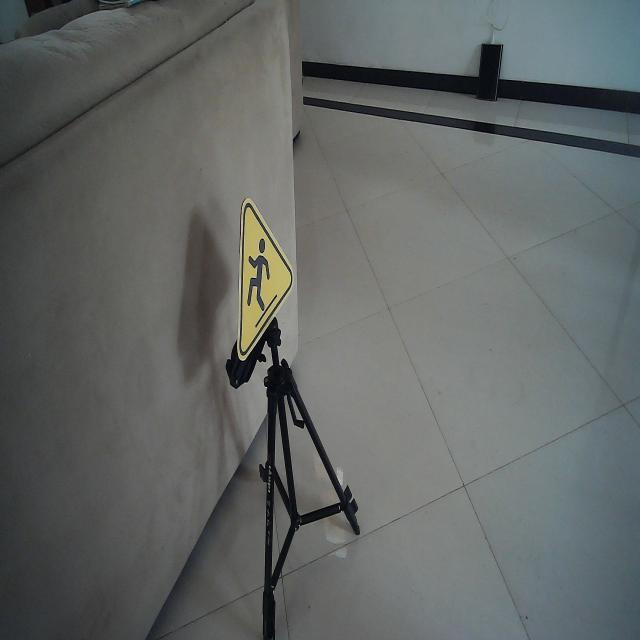slippery_sign: (236, 196, 296, 363)
